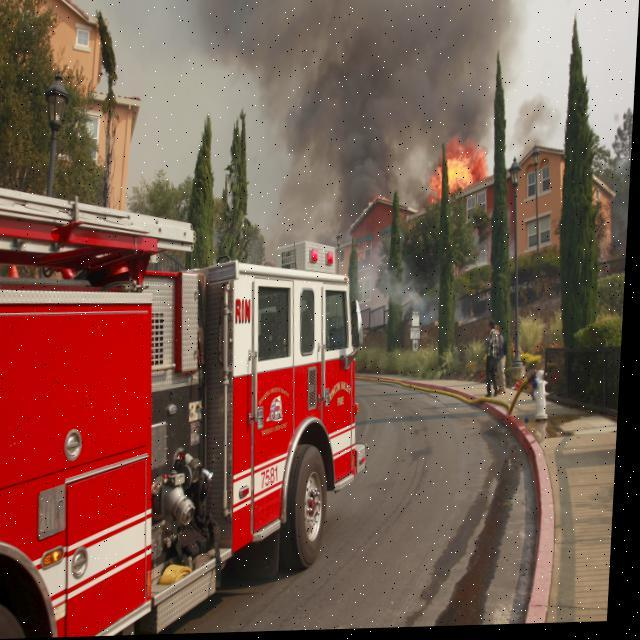Fire: (424, 137, 494, 224)
